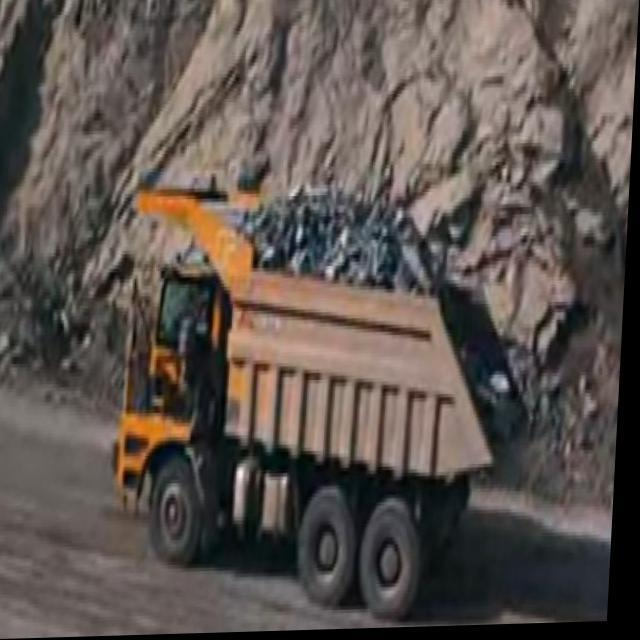uncovered: (107, 163, 519, 580)
